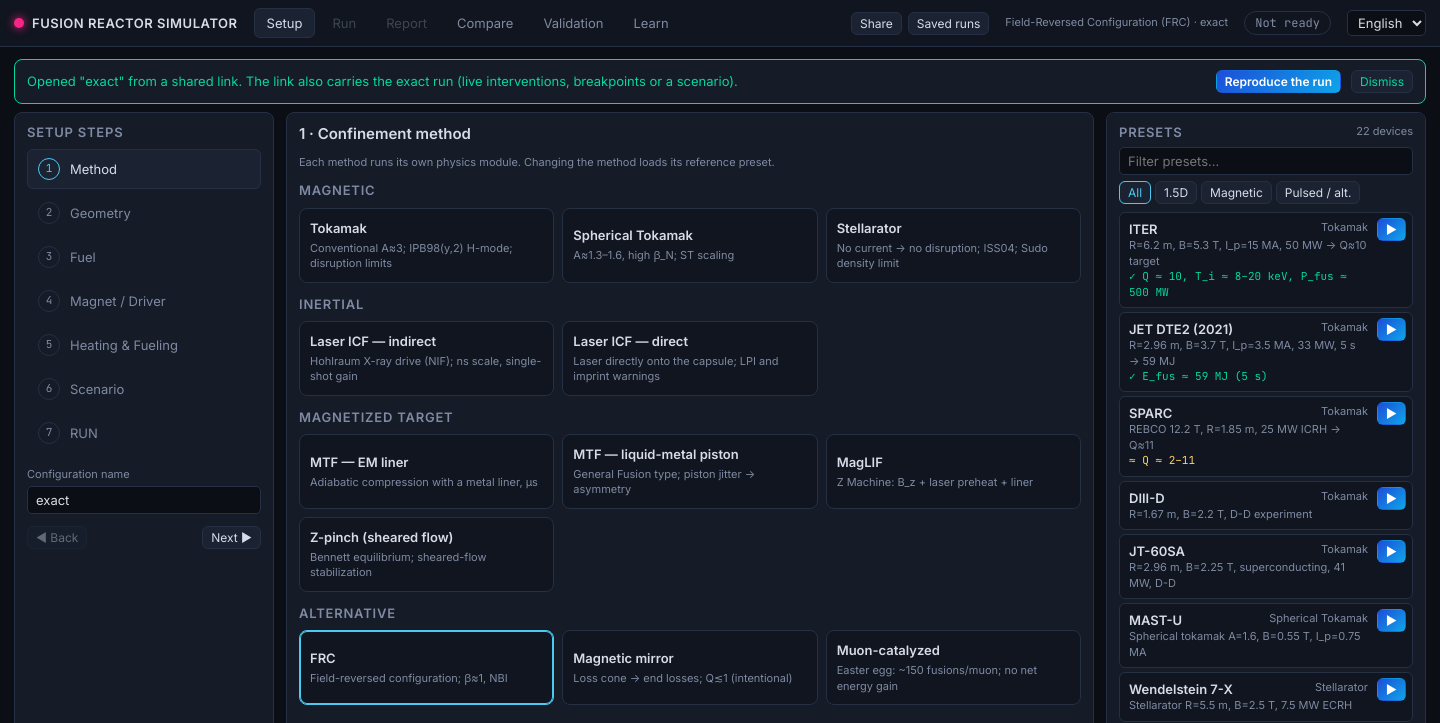
Test: persistence UI: sharing › a link that carries the exact run offers to reproduce it, and reports whether the fingerprint matches
The width and height of the screenshot is (1440, 723).
Step 1. Click the button "Reproduce the run" → (1278, 82), box [1216, 70, 1341, 93]
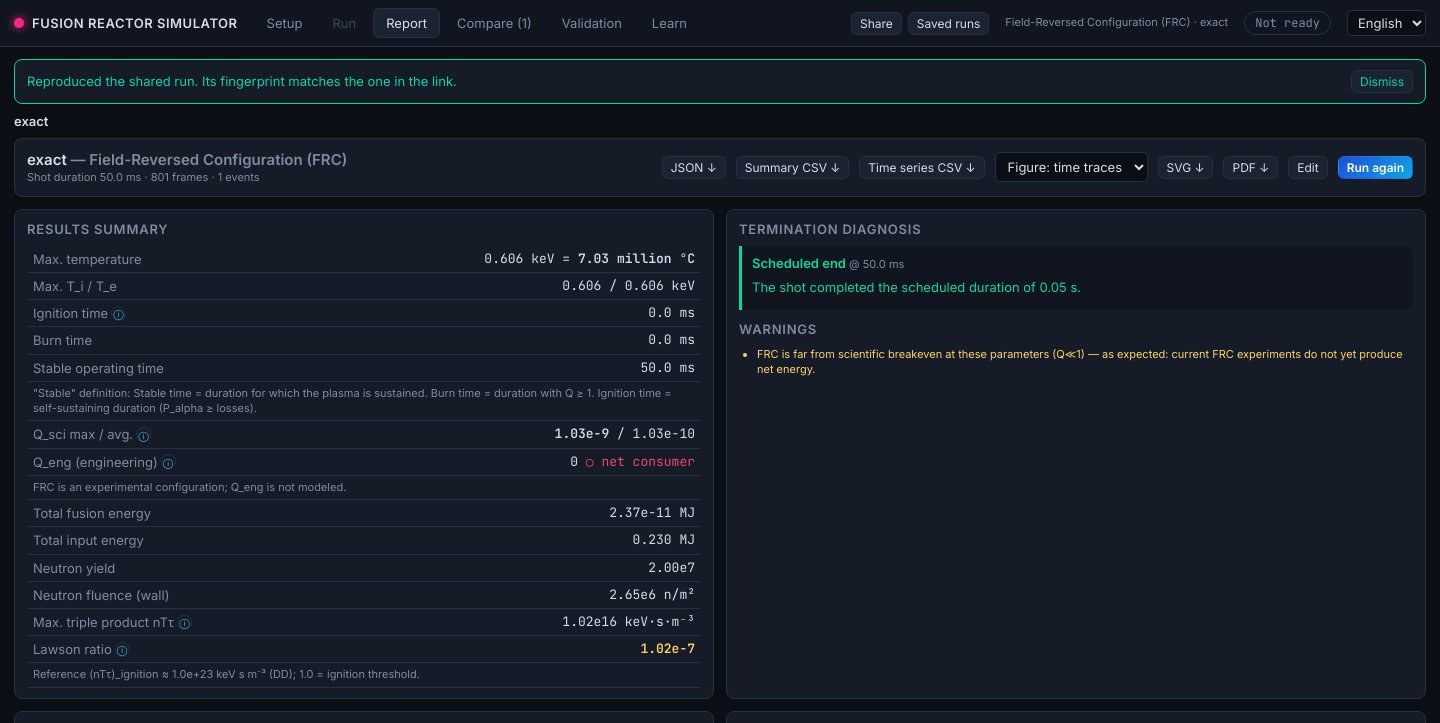
Expected: the text "fingerprint matches" is shown, [27, 73, 457, 89]
